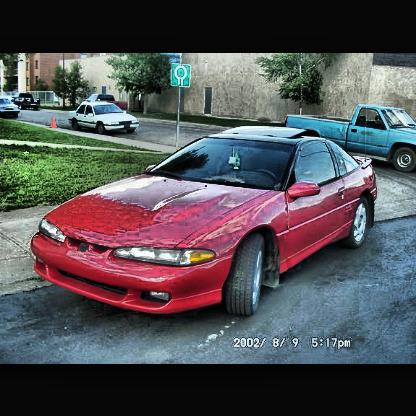Eagle Talon Hatchback 1998: (33, 125, 380, 321)
